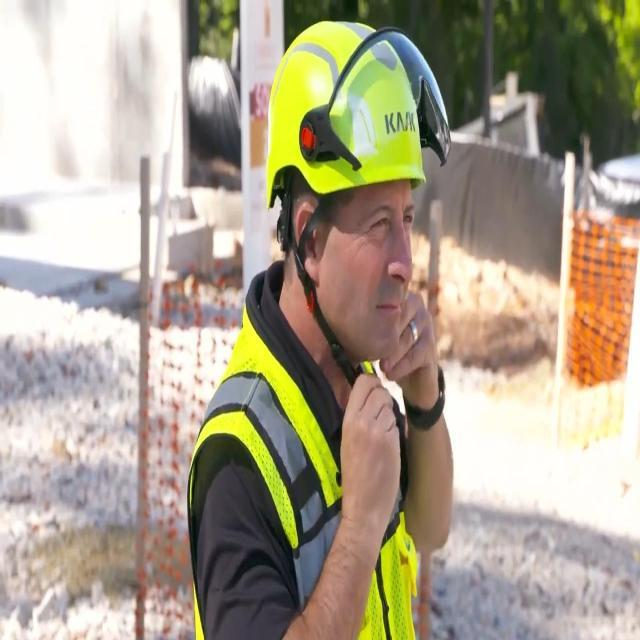yellow helmet: (259, 1, 474, 196)
